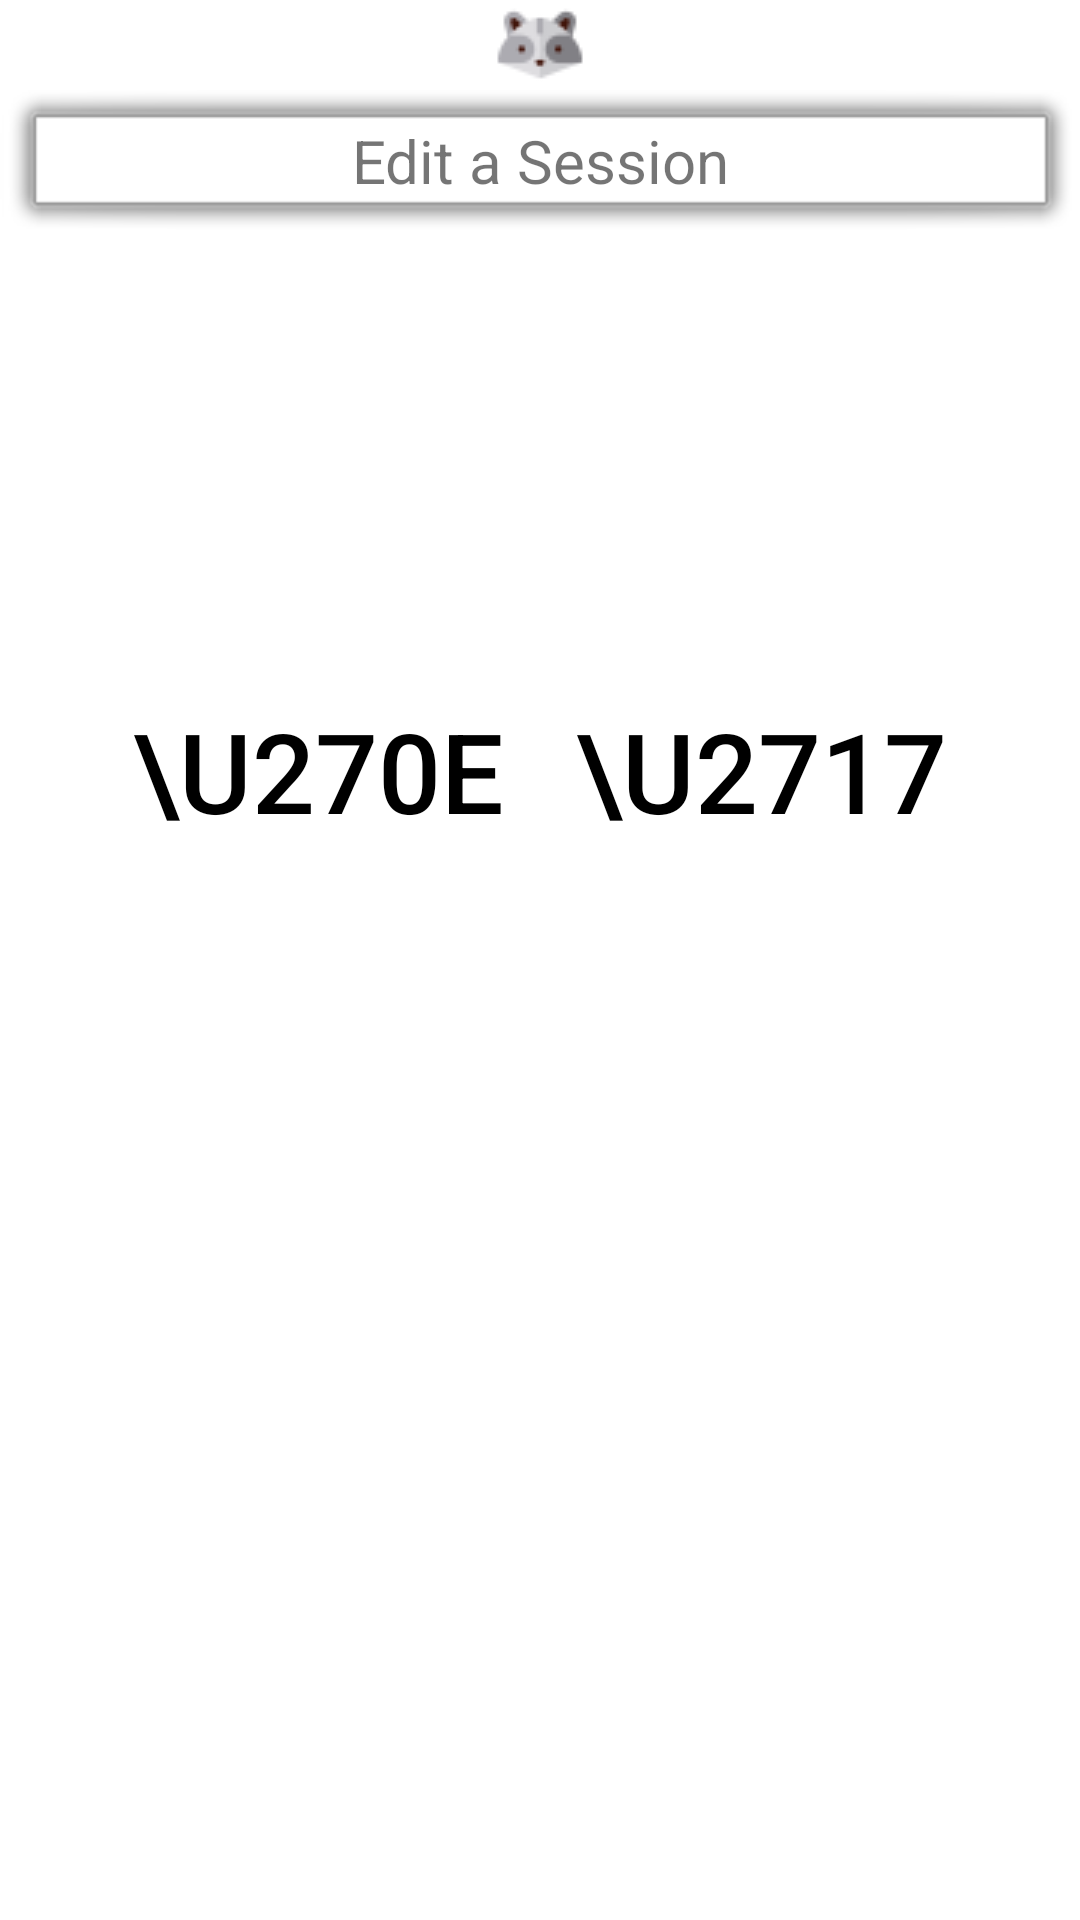

Where icons sit on this 1080 x 1920 app screen, as (x1,y1,x2,y2):
raccoonface: (497,11,583,78)
